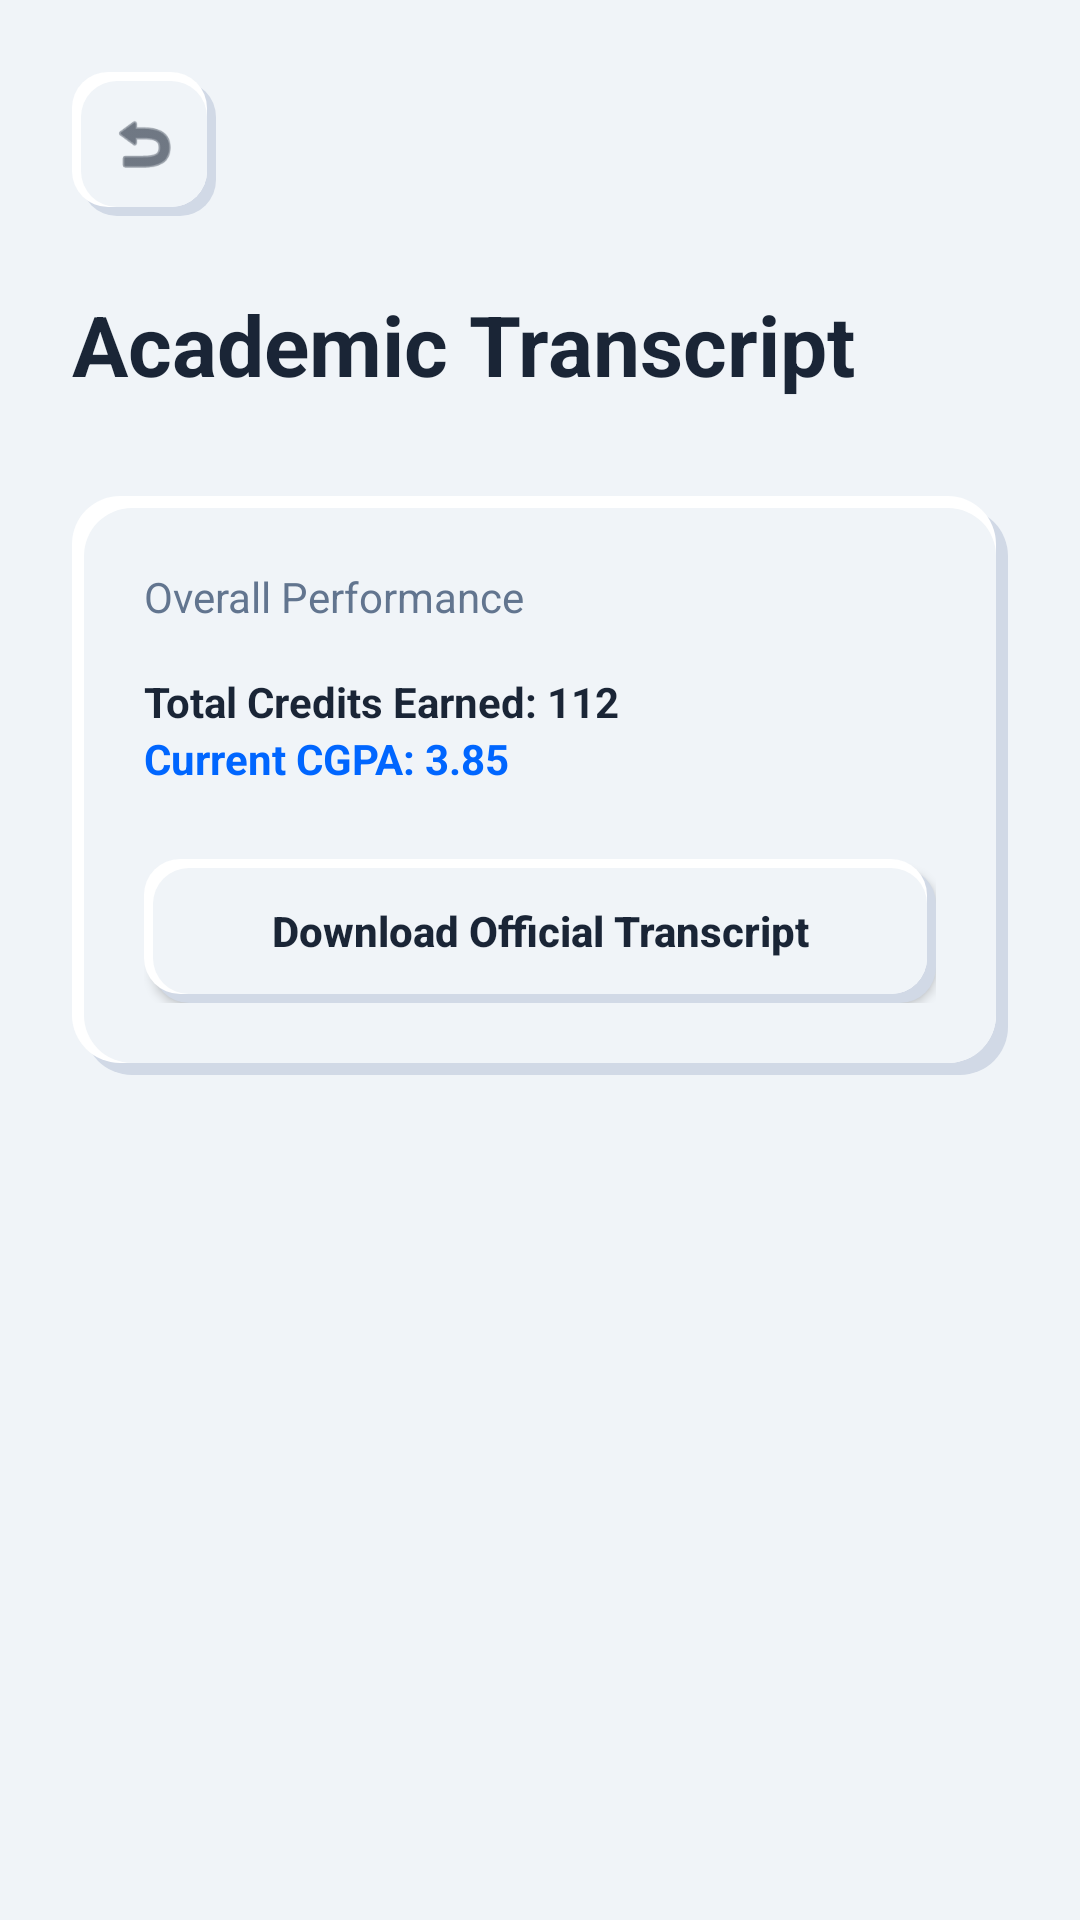

Screen size 1080px x 1920px. Icon name, then its center in pixels as [x,y]:
revert: [145,144]
